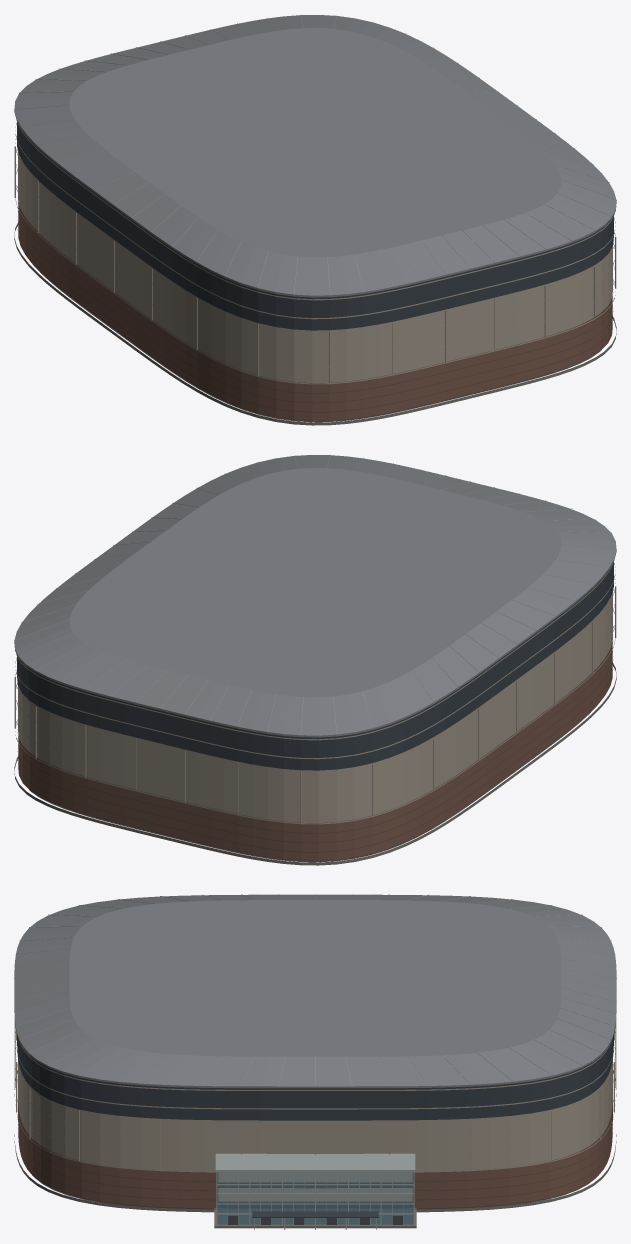
The model's file is shell.glb.
3 views of the same model, one above another, from view 1: azimuth 30°, elevation 25°; view 2: azimuth 150°, elevation 25°; view 3: azimuth 270°, elevation 25° (orthographic). The views are drawn at different scales.
Visible parts, largest first — view 1: shell_roof_canopy_standing_seam, shell_bowl_mass_precast, shell_bowl_mass_brick_cladding, shell_bowl_mass_spandrels, shell_bowl_mass_plinth, shell_roof_canopy_flashing, shell_bowl_mass_masonry_joints, shell_field_floor_event_deck; view 2: shell_roof_canopy_standing_seam, shell_bowl_mass_precast, shell_bowl_mass_brick_cladding, shell_bowl_mass_spandrels, shell_bowl_mass_plinth, shell_roof_canopy_flashing, shell_bowl_mass_masonry_joints, shell_field_floor_event_deck; view 3: shell_roof_canopy_standing_seam, shell_bowl_mass_precast, shell_bowl_mass_spandrels, shell_bowl_mass_brick_cladding, shell_bowl_mass_suite_glass_east_atrium, shell_bowl_mass_east_atrium_frame, shell_bowl_mass_east_atrium_interior, shell_bowl_mass_plinth, shell_roof_canopy_flashing, shell_bowl_mass_masonry_joints, shell_vomitories_entry_portals.
Boxes of the visible parts, x1=… form: shell_roof_canopy_standing_seam: x1=14, y1=15, x2=616, y2=297; shell_bowl_mass_precast: x1=14, y1=121, x2=616, y2=384; shell_bowl_mass_brick_cladding: x1=18, y1=202, x2=612, y2=420; shell_bowl_mass_spandrels: x1=17, y1=122, x2=613, y2=330; shell_bowl_mass_plinth: x1=14, y1=223, x2=616, y2=425; shell_roof_canopy_flashing: x1=14, y1=14, x2=616, y2=294; shell_bowl_mass_masonry_joints: x1=17, y1=202, x2=613, y2=412; shell_field_floor_event_deck: x1=30, y1=261, x2=601, y2=422; shell_roof_canopy_standing_seam: x1=14, y1=455, x2=616, y2=737; shell_bowl_mass_precast: x1=14, y1=561, x2=616, y2=824; shell_bowl_mass_brick_cladding: x1=18, y1=642, x2=612, y2=860; shell_bowl_mass_spandrels: x1=17, y1=562, x2=613, y2=770; shell_bowl_mass_plinth: x1=14, y1=663, x2=616, y2=865; shell_roof_canopy_flashing: x1=14, y1=454, x2=616, y2=734; shell_bowl_mass_masonry_joints: x1=17, y1=642, x2=613, y2=852; shell_field_floor_event_deck: x1=29, y1=701, x2=600, y2=862; shell_roof_canopy_standing_seam: x1=14, y1=894, x2=616, y2=1088; shell_bowl_mass_precast: x1=14, y1=1019, x2=616, y2=1172; shell_bowl_mass_spandrels: x1=17, y1=1034, x2=613, y2=1217; shell_bowl_mass_brick_cladding: x1=18, y1=1101, x2=612, y2=1208; shell_bowl_mass_suite_glass_east_atrium: x1=217, y1=1172, x2=413, y2=1224; shell_bowl_mass_east_atrium_frame: x1=215, y1=1153, x2=415, y2=1229; shell_bowl_mass_east_atrium_interior: x1=218, y1=1172, x2=412, y2=1201; shell_bowl_mass_plinth: x1=14, y1=1070, x2=616, y2=1228; shell_roof_canopy_flashing: x1=14, y1=894, x2=616, y2=1085; shell_bowl_mass_masonry_joints: x1=17, y1=1073, x2=613, y2=1200; shell_vomitories_entry_portals: x1=228, y1=1216, x2=402, y2=1224.
Size of the model in its own units: 131 by 40.1 by 158.
